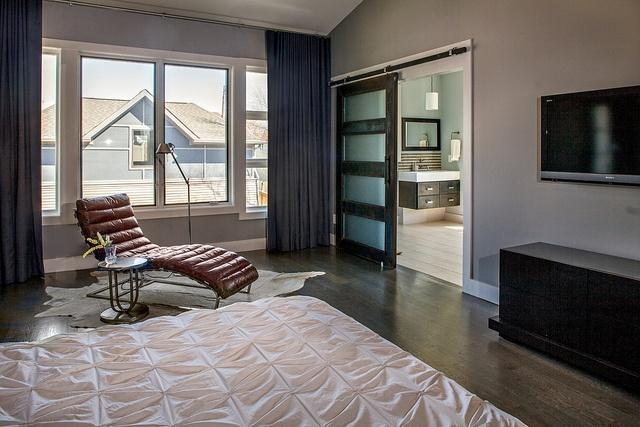AIO PC-Monitor-TV: (539, 83, 639, 187)
